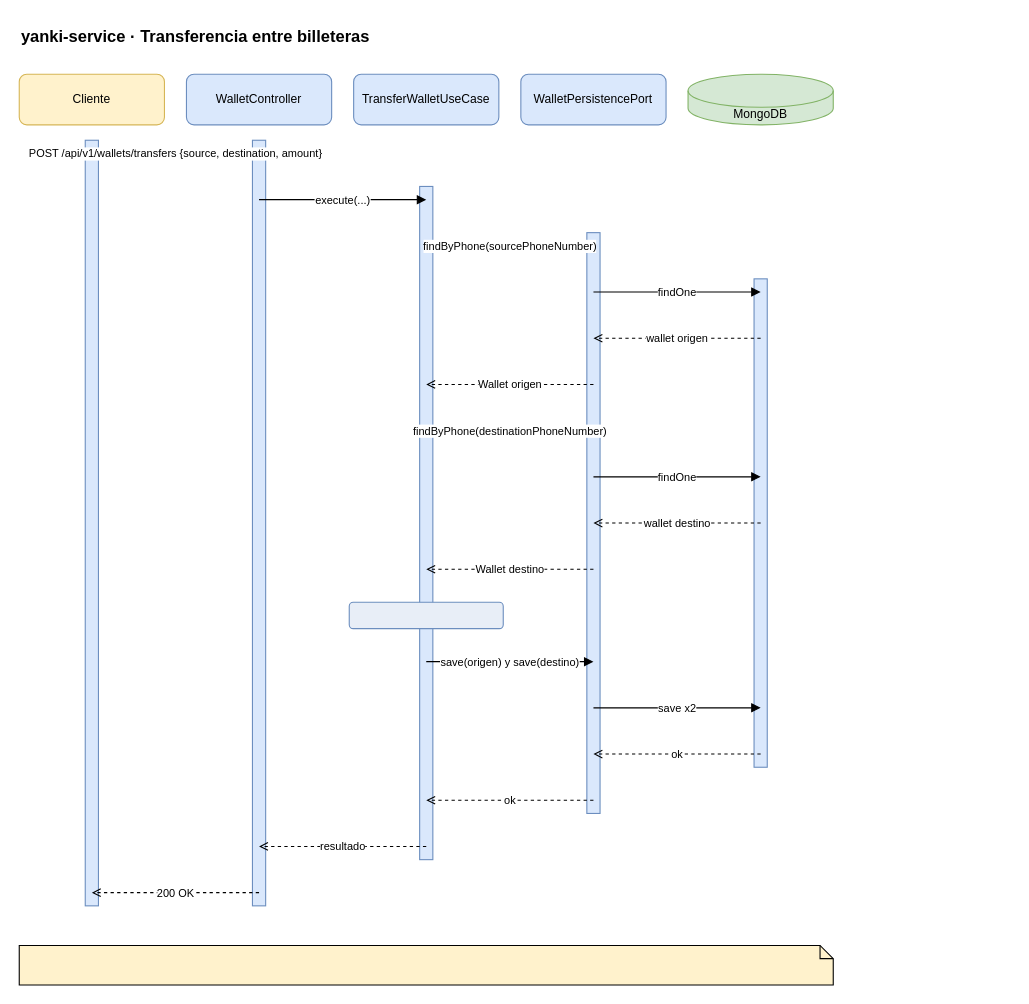
This 1029x1004 diagram has some shape labels left out. The shapes that lost their labels are listed below. From the top down, each one's box as (x1, y1, x2, y2) in pixels, then its label:
(348, 601, 503, 629): origen.withdraw(amount) + destino.deposit(amount)
(18, 944, 833, 985): Error si saldo insuficiente.
